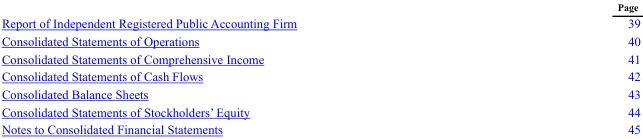table: (0, 1, 639, 136)
table column: (0, 1, 456, 136), (456, 1, 639, 136)
table column header: (0, 1, 639, 14)
table row: (0, 31, 639, 49), (0, 49, 639, 67), (0, 84, 639, 102), (0, 102, 639, 120), (0, 14, 639, 31), (0, 67, 639, 84), (0, 120, 639, 136), (0, 1, 639, 14)
